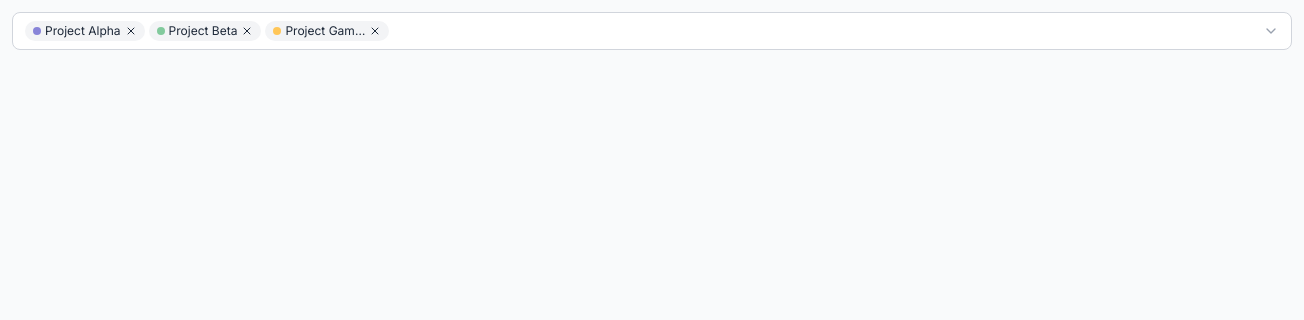
Test: ProjectMultiSelect › enforces max selections
The width and height of the screenshot is (1304, 320).
// Open dropdown
Click the text "Project Alpha".
click(83, 31)  # box left=45, top=23, right=121, bottom=39
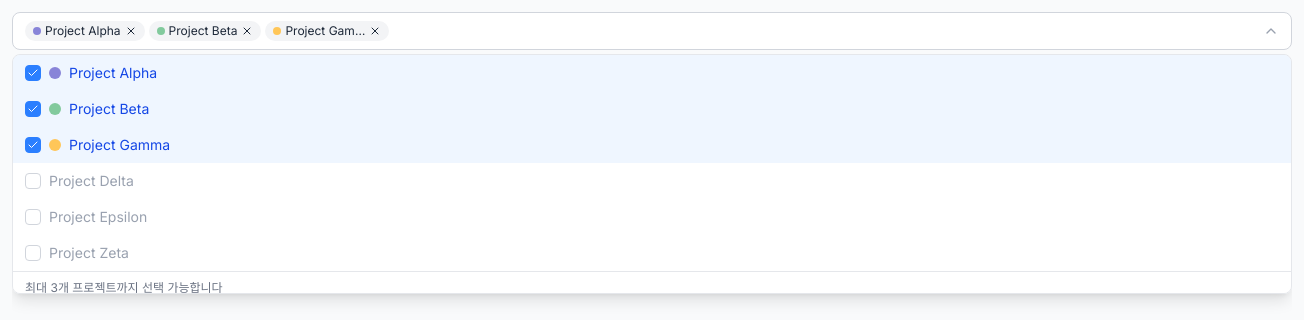
Now the text "최대 3개 프로젝트까지 선택 가능합니다" is shown, box left=13, top=271, right=1291, bottom=294
